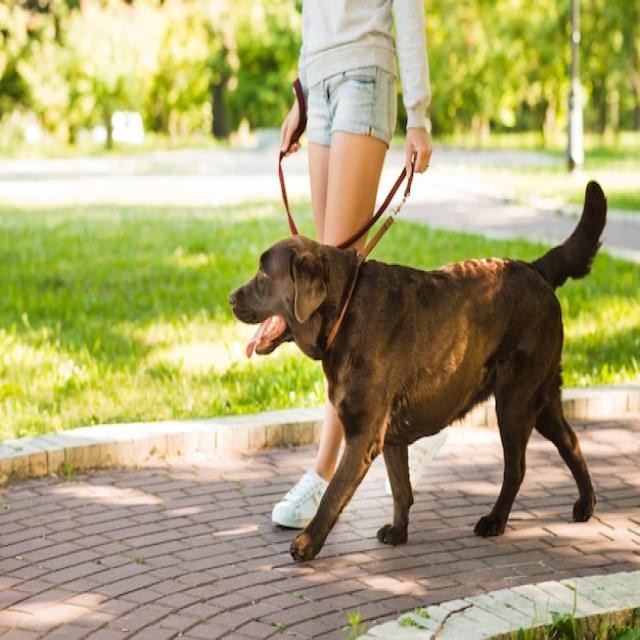Dog: (228, 178, 606, 558)
